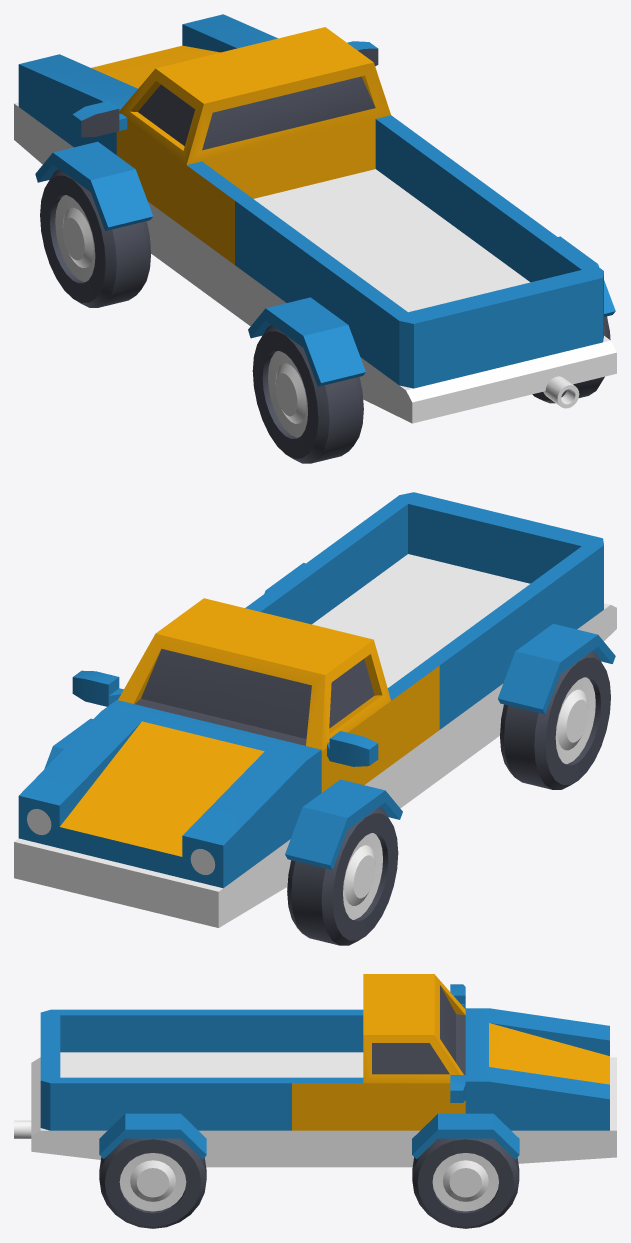
File: Player Truck 4.fbx
The picture shows the model from 3 angles, top to bottom: view 1: azimuth 30°, elevation 25°; view 2: azimuth 150°, elevation 25°; view 3: azimuth 270°, elevation 25°; orthographic projection. The views are drawn at different scales.
Parts seen in each view (by area): view 1: trunk_bed_152, windshield_truck_169, hood_square_147, wheel_small_160, wheel_small_159, detail_fenderSquare_161, detail_fenderSquare_162, detail_mirror_155, detail_exhaust_168; view 2: hood_square_147, trunk_bed_152, windshield_truck_169, wheel_small_159, wheel_small_160, detail_fenderSquare_161, detail_fenderSquare_162, detail_mirror_155, detail_mirror_156; view 3: trunk_bed_152, windshield_truck_169, hood_square_147, wheel_small_166, wheel_small_164, detail_fenderSquare_165, detail_fenderSquare_163, detail_mirror_156.
Boxes of the visible parts, x1,y1,x2,y2 form: trunk_bed_152: (235,150,616,423); windshield_truck_169: (116,27,439,314); hood_square_147: (14,14,277,164); wheel_small_160: (252,325,363,463); wheel_small_159: (40,169,150,307); detail_fenderSquare_161: (35,141,153,230); detail_fenderSquare_162: (248,297,365,386); detail_mirror_155: (72,101,127,137); detail_exhaust_168: (543,376,579,408); hood_square_147: (14,700,321,927); trunk_bed_152: (245,492,616,779); windshield_truck_169: (118,598,439,808); wheel_small_159: (287,807,398,945); wheel_small_160: (500,651,610,789); detail_fenderSquare_161: (285,779,402,869); detail_fenderSquare_162: (498,623,615,714); detail_mirror_155: (327,731,378,766); detail_mirror_156: (72,670,123,706); trunk_bed_152: (31,1009,291,1167); windshield_truck_169: (292,974,465,1167); hood_square_147: (465,1008,616,1163); wheel_small_166: (412,1138,519,1228); wheel_small_164: (99,1138,206,1228); detail_fenderSquare_165: (412,1113,519,1159); detail_fenderSquare_163: (99,1113,206,1159); detail_mirror_156: (450,1075,465,1102).
Bounding box in the file's own units: 14.5 × 11.08 × 34.7.
